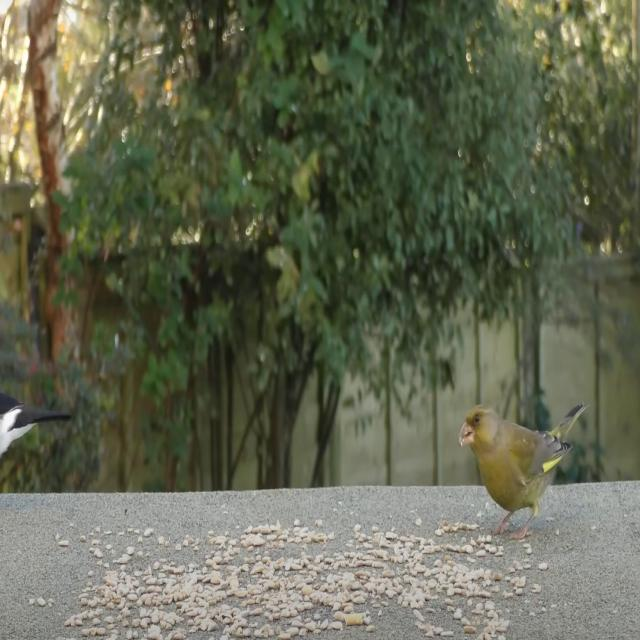beak: (458, 422, 474, 446)
bird: (456, 398, 588, 548), (0, 391, 70, 490)
